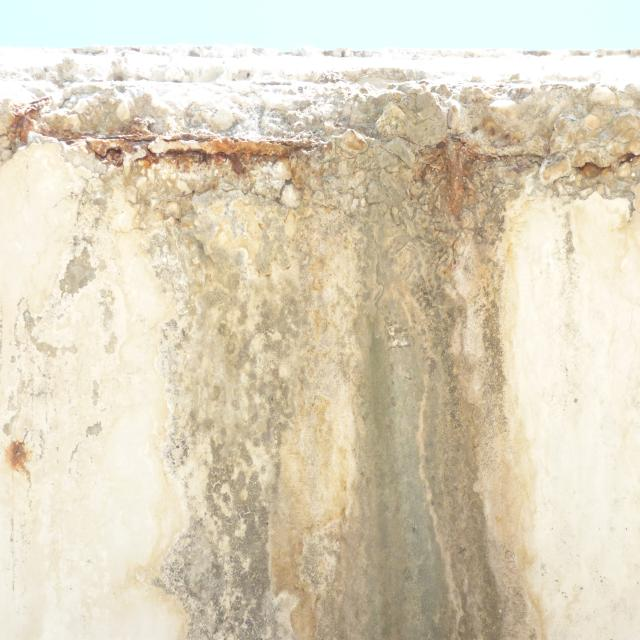corrosion: (0, 67, 334, 205), (411, 126, 640, 220), (1, 426, 45, 492)
